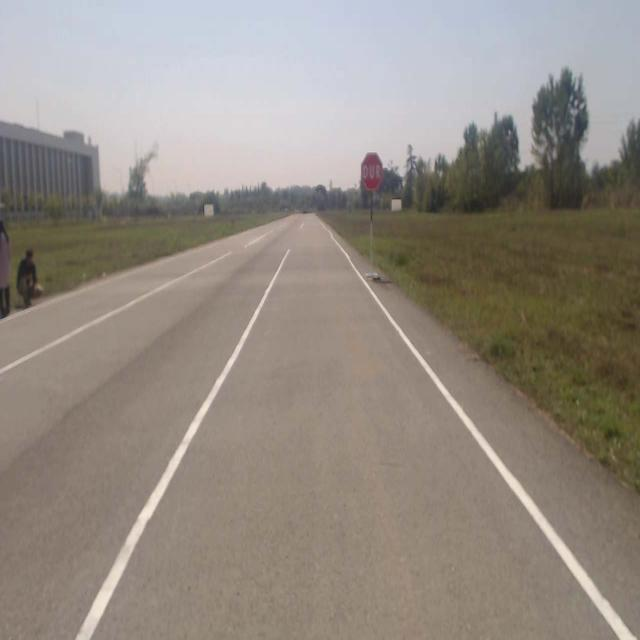dur: (360, 150, 382, 190)
